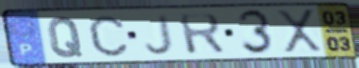3: (235, 8, 277, 57)
C: (86, 14, 130, 59)
J: (143, 13, 175, 57)
Q: (46, 15, 85, 59)
R: (176, 12, 227, 56)
X: (274, 7, 326, 55)
